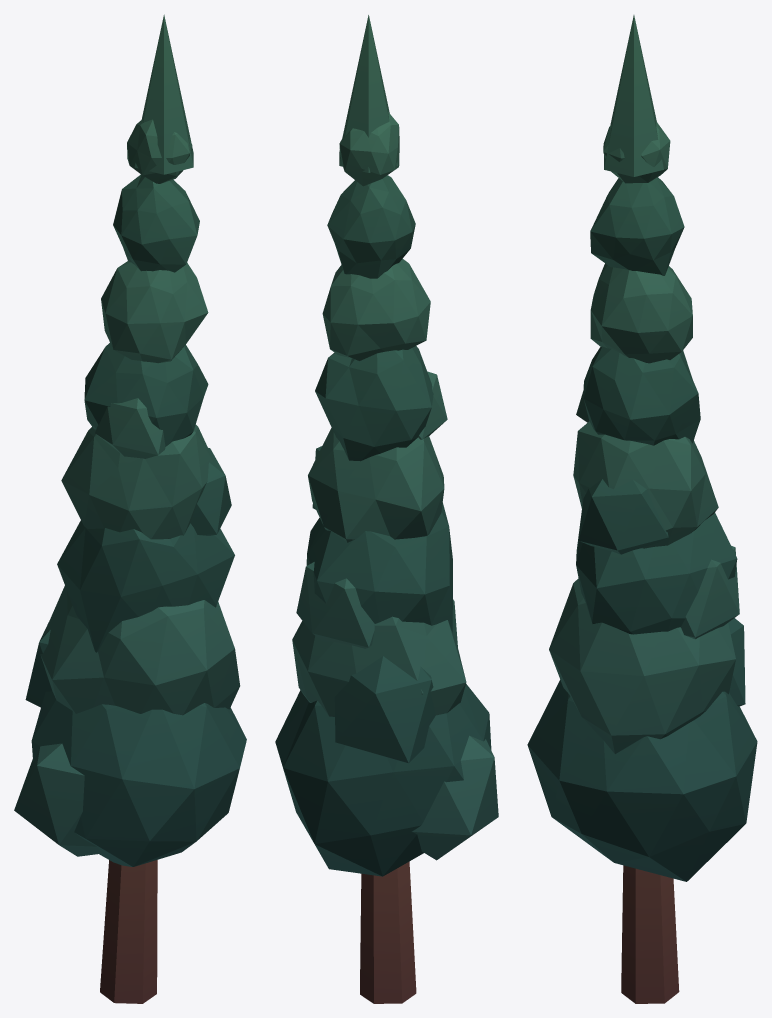
Rendered from cedar_b.glb.
The picture shows the model from 3 angles, left to right: view 1: azimuth 30°, elevation 25°; view 2: azimuth 150°, elevation 25°; view 3: azimuth 270°, elevation 25°; orthographic projection. The views are drawn at different scales.
Visible parts, largest first — view 1: cedar_b; view 2: cedar_b; view 3: cedar_b.
Boxes of the visible parts, x1,y1,x2,y2 form: cedar_b: (14,14,246,1003); cedar_b: (275,15,498,1003); cedar_b: (527,15,757,1003).
Bounding box in the file's own units: 3.1 × 14.71 × 3.09.
